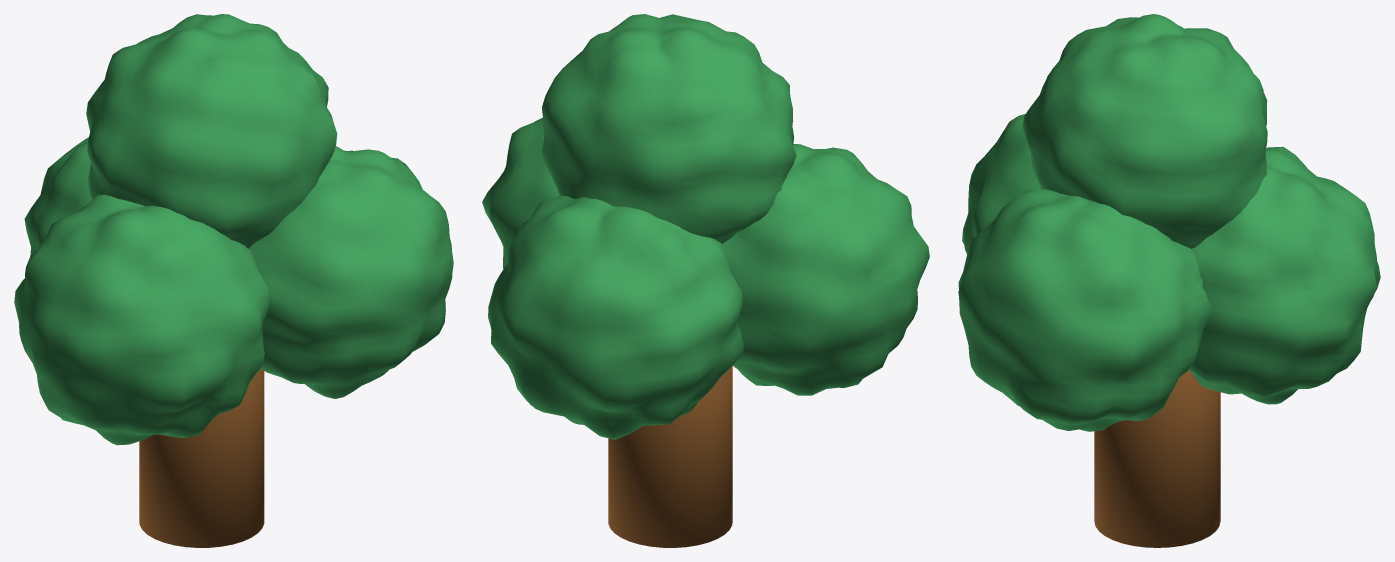
The model's file is tree.fbx.
3 views of the same model, side by side, from view 1: azimuth 30°, elevation 25°; view 2: azimuth 150°, elevation 25°; view 3: azimuth 270°, elevation 25° (orthographic).
Parts seen in each view (by area): view 1: Crown, Trunk; view 2: Crown, Trunk; view 3: Crown, Trunk.
Boxes of the visible parts, x1,y1,x2,y2 form: Crown: [14, 14, 453, 445]; Trunk: [139, 369, 264, 547]; Crown: [482, 14, 929, 439]; Trunk: [608, 365, 732, 547]; Crown: [958, 14, 1380, 431]; Trunk: [1094, 370, 1220, 547].
Size of the model in its own units: 372 by 435 by 335.
